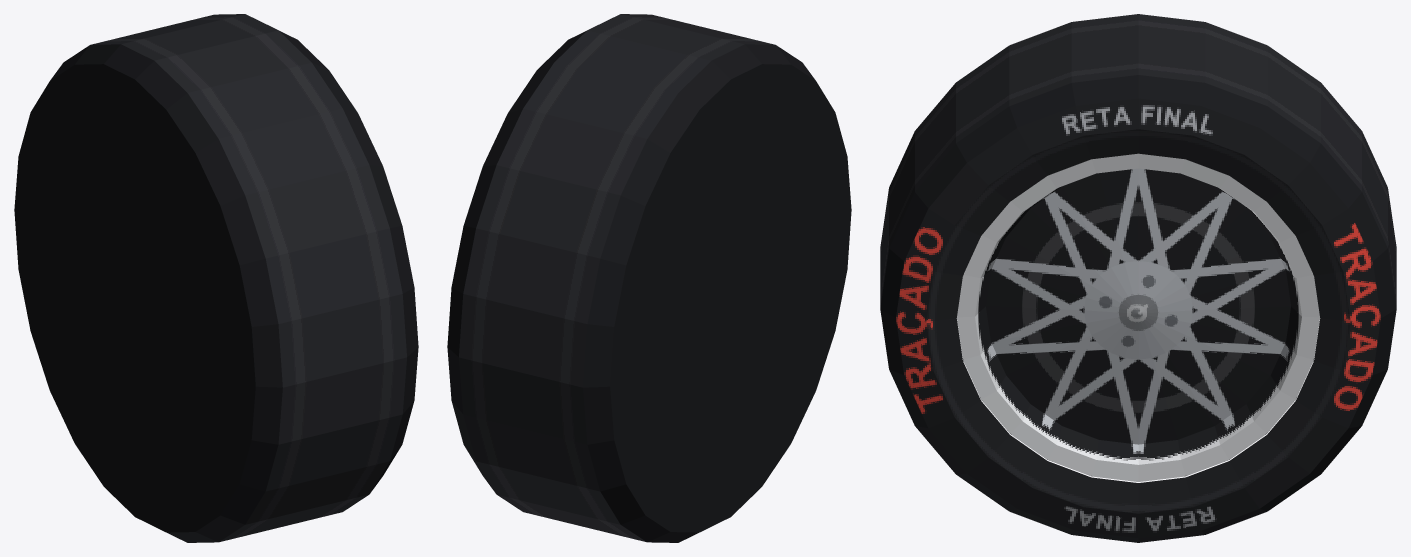
The model's file is quebramola_malha_16_com_tracado_reta_final.glb.
The picture shows the model from 3 angles, left to right: view 1: azimuth 30°, elevation 25°; view 2: azimuth 150°, elevation 25°; view 3: azimuth 270°, elevation 25°; orthographic projection.
Parts seen in each view (by area): view 1: quebramola_malha_16_com_tracado_reta_final; view 2: quebramola_malha_16_com_tracado_reta_final; view 3: quebramola_malha_16_com_tracado_reta_final.
Part boxes in pixels (left/top/right/bottom): quebramola_malha_16_com_tracado_reta_final: left=14, top=14, right=418, bottom=542; quebramola_malha_16_com_tracado_reta_final: left=447, top=14, right=851, bottom=542; quebramola_malha_16_com_tracado_reta_final: left=880, top=14, right=1396, bottom=542.
Size of the model in its own units: 0.2456 by 0.6468 by 0.6468.
2 materials, 2 textured.
